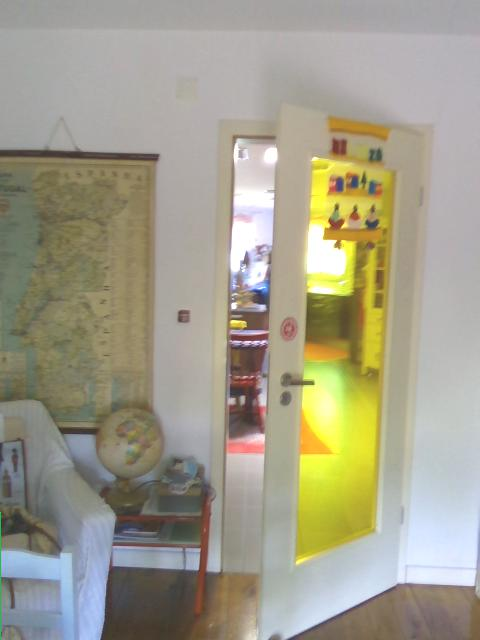semi_door: (217, 98, 436, 639)
